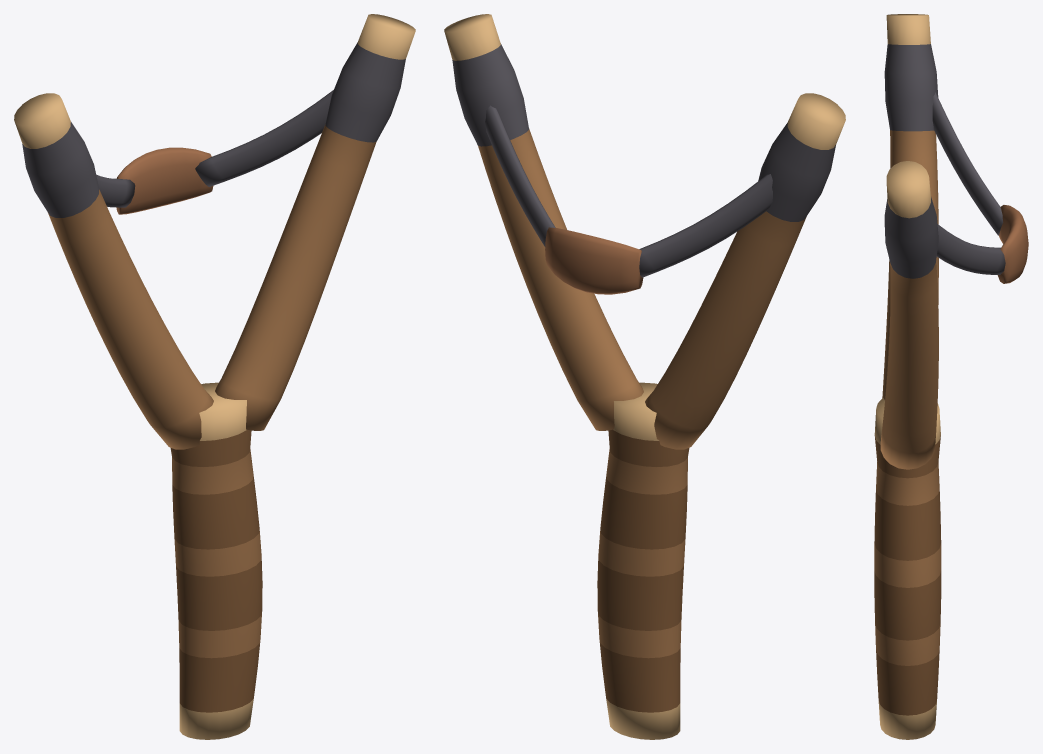
File: tirador.glb
The picture shows the model from 3 angles, left to right: view 1: azimuth 30°, elevation 25°; view 2: azimuth 150°, elevation 25°; view 3: azimuth 270°, elevation 25°; orthographic projection. The views are drawn at different scales.
Visible parts, largest first — view 1: tirador; view 2: tirador; view 3: tirador.
Boxes of the visible parts, x1,y1,x2,y2 form: tirador: (14,14,415,739); tirador: (444,14,845,739); tirador: (874,14,1028,739).
Size of the model in its own units: 0.62 by 1 by 0.22.
Materials: 1 (1 with a texture image).
